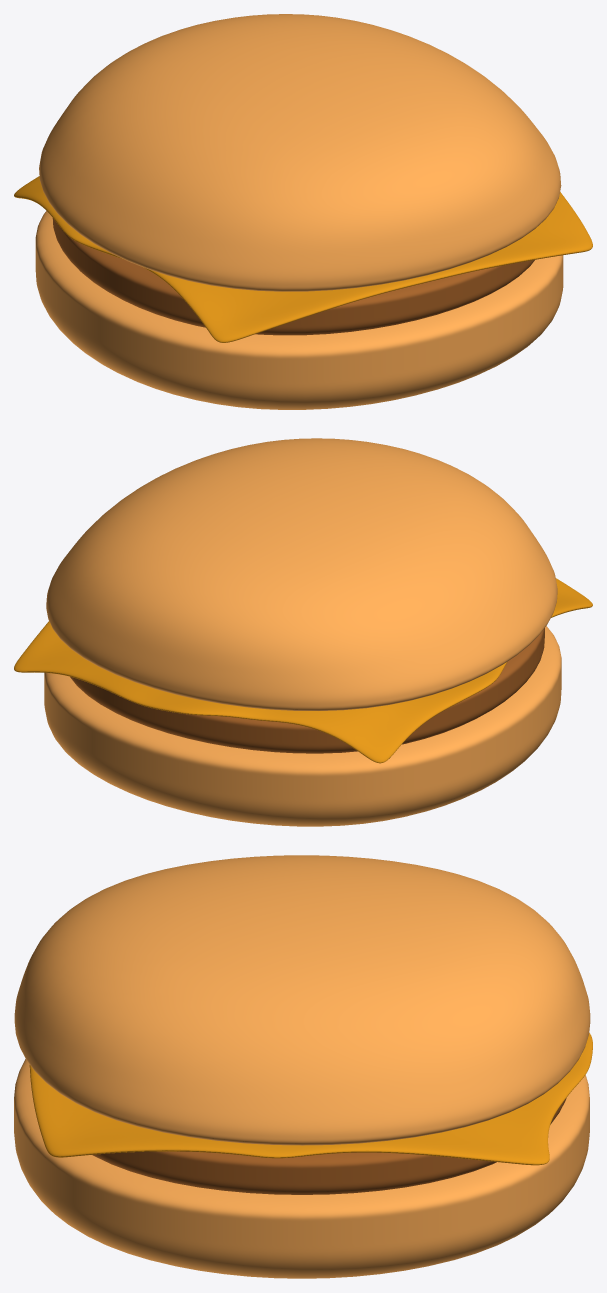
The model's file is burger.glb.
3 renders of one model, top to bottom at view 1: azimuth 30°, elevation 25°; view 2: azimuth 150°, elevation 25°; view 3: azimuth 270°, elevation 25°, orthographic. The views are drawn at different scales.
Parts seen in each view (by area): view 1: topBun, bottomBun, Cheeze, Steack; view 2: topBun, bottomBun, Cheeze, Steack; view 3: topBun, bottomBun, Cheeze, Steack.
Part boxes in pixels (left/top/right/bottom): topBun: left=39, top=14, right=561, bottom=291; bottomBun: left=35, top=211, right=563, bottom=409; Cheeze: left=14, top=176, right=592, bottom=342; Steack: left=52, top=218, right=534, bottom=335; topBun: left=46, top=438, right=557, bottom=710; bottomBun: left=44, top=626, right=561, bottom=826; Cheeze: left=14, top=578, right=592, bottom=763; Steack: left=70, top=628, right=544, bottom=753; topBun: left=14, top=855, right=590, bottom=1145; bottomBun: left=14, top=1059, right=589, bottom=1278; Cheeze: left=29, top=1033, right=592, bottom=1165; Steack: left=92, top=1098, right=566, bottom=1194.
Size of the model in its own units: 9.12 by 5.12 by 9.17.
